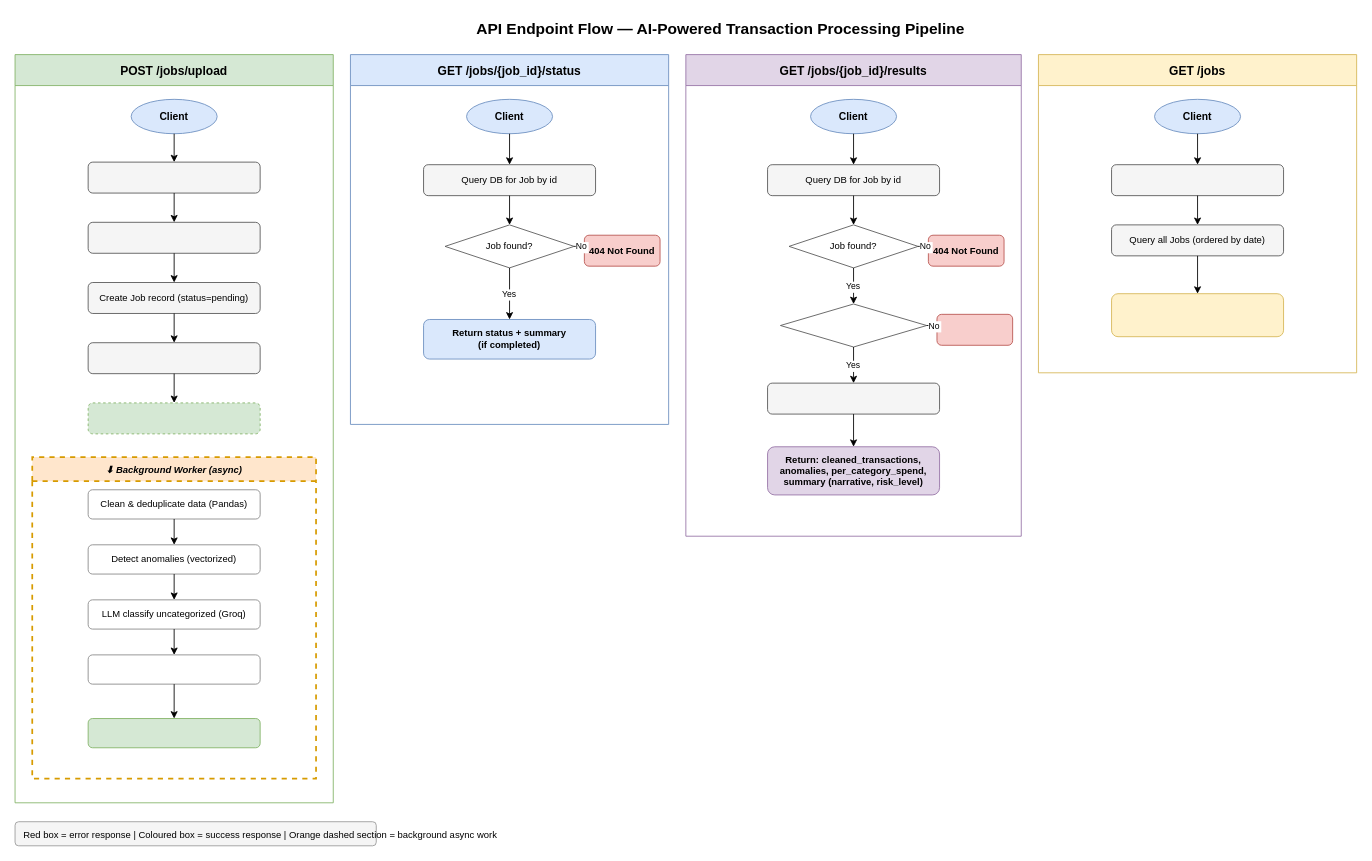
Image size: 1372x861. Some labels were removed from this diagram. Each missing label, with the centre of its shape:
400 Not Ready: (974,329)
Apply optional ?status= filter: (1197,180)
Bulk insert to DB → mark completed: (173,733)
Compute aggregates (Pandas): (173,669)
Enqueue Celery task: (173,358)
Fetch Transactions + JobSummary: (853,398)
Return list of jobs (id, filename, status, created_at): (1197,315)
Returns {"job_id": "..."} immediately: (173,418)
Save file to /app/uploads: (173,237)
Status = completed?: (853,325)
Validate .csv extension: (173,177)
